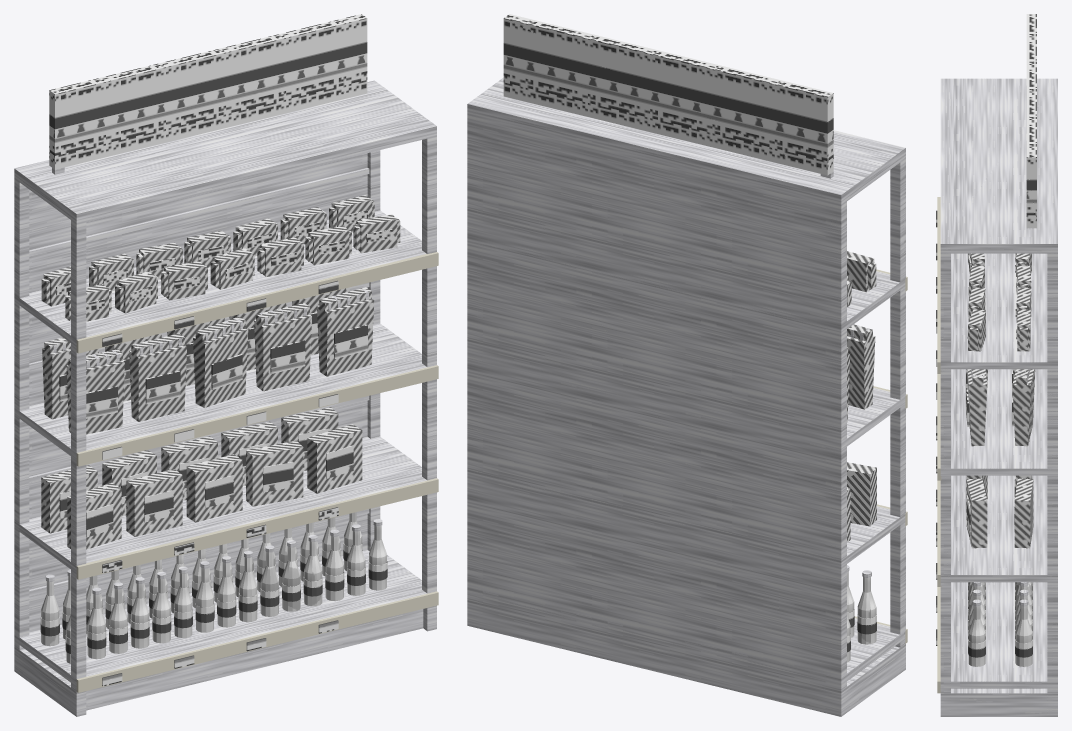
The picture shows the model from 3 angles, left to right: view 1: azimuth 30°, elevation 25°; view 2: azimuth 150°, elevation 25°; view 3: azimuth 270°, elevation 25°; orthographic projection. The views are drawn at different scales.
Parts seen in each view (by area): view 1: metallo_003, stampa_a_009, metallo_001, metallo_000, liscio_005, metallo_004, metallo_002, stampa_b_141, stampa_b_129, stampa_b_147, stampa_b_135, stampa_b_106 (+52 smaller); view 2: metallo_001, stampa_a_009, metallo_003, metallo_000, stampa_b_123, metallo_004, stampa_b_102, stampa_b_152, vetro_013; view 3: metallo_003, metallo_000, metallo_004, stampa_a_009, metallo_001, liscio_005, stampa_b_144, stampa_b_147, stampa_b_116, stampa_b_118, stampa_b_176, vetro_094 (+10 smaller).
Boxes of the visible parts, box(x1,y1,x2,y2) form: metallo_003: box(14, 82, 436, 686); stampa_a_009: box(49, 14, 367, 169); metallo_001: box(14, 80, 376, 665); metallo_000: box(14, 80, 436, 716); liscio_005: box(76, 252, 438, 692); metallo_004: box(19, 609, 423, 713); metallo_002: box(29, 168, 369, 595); stampa_b_141: box(254, 303, 311, 391); stampa_b_129: box(129, 333, 186, 421); stampa_b_147: box(317, 287, 374, 376); stampa_b_135: box(193, 317, 248, 407); stampa_b_106: box(126, 469, 182, 536); metallo_001: box(467, 104, 843, 715); stampa_a_009: box(503, 14, 833, 175); metallo_003: box(467, 77, 905, 685); metallo_000: box(467, 100, 905, 716); stampa_b_123: box(847, 324, 875, 409); metallo_004: box(844, 646, 901, 714); stampa_b_102: box(847, 462, 876, 526); stampa_b_152: box(847, 251, 876, 292); vetro_013: box(857, 577, 876, 644); metallo_003: box(940, 78, 1057, 688); metallo_000: box(940, 78, 1057, 716); metallo_004: box(949, 688, 1052, 716); stampa_a_009: box(1026, 14, 1036, 228); metallo_001: box(1052, 79, 1057, 716); liscio_005: box(937, 197, 941, 693); stampa_b_144: box(1012, 369, 1035, 446); stampa_b_147: box(967, 369, 987, 446); stampa_b_116: box(1014, 478, 1033, 548); stampa_b_118: box(966, 478, 987, 548); stampa_b_176: box(968, 309, 985, 351); vetro_094: box(1015, 606, 1032, 666).
Bounding box in the file's own units: 1.5 × 2.32 × 0.467.
20 materials, 19 textured.
